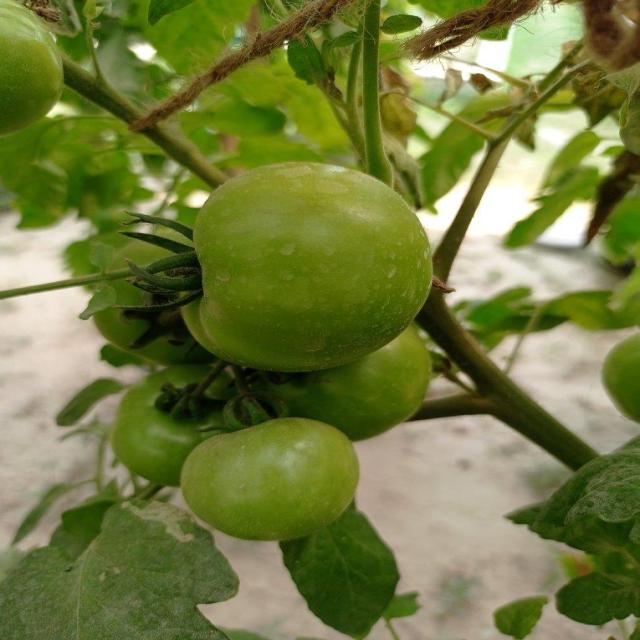Unripe: (176, 159, 435, 372), (183, 415, 361, 541), (112, 364, 254, 488)
